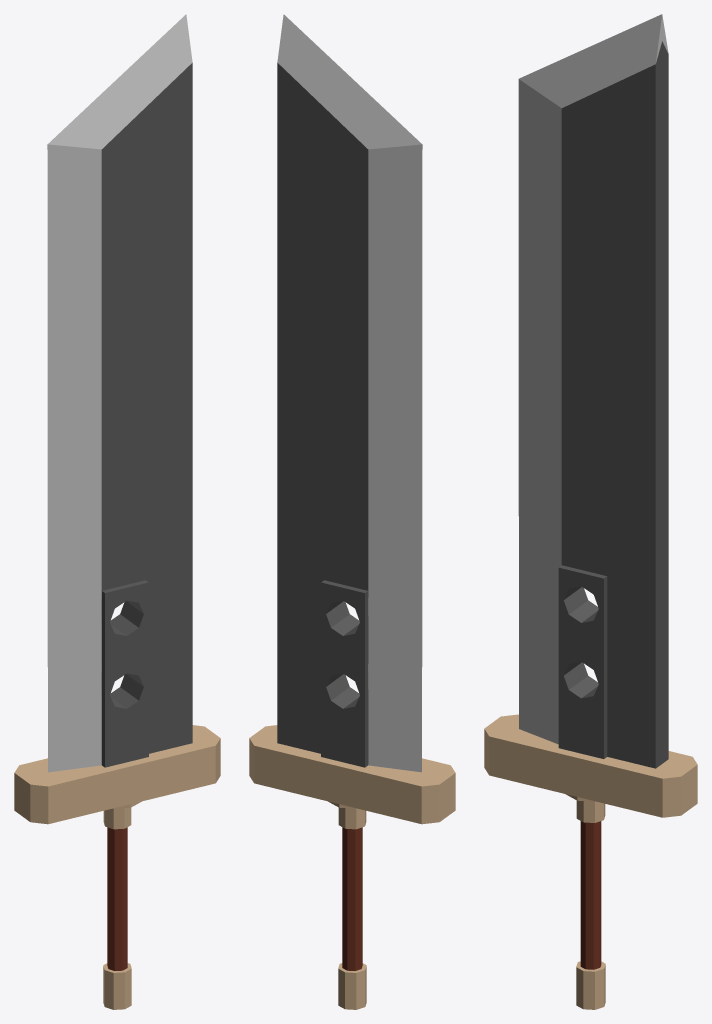
The model's file is BusterSword.fbx.
3 views of the same model, side by side, from view 1: azimuth 30°, elevation 25°; view 2: azimuth 150°, elevation 25°; view 3: azimuth 330°, elevation 25° (orthographic). The views are drawn at different scales.
Visible parts, largest first — view 1: BusterBlade, Guard, Handle; view 2: BusterBlade, Guard, Handle; view 3: BusterBlade, Guard, Handle.
Boxes of the visible parts, x1,y1,x2,y2 form: BusterBlade: (47,14,192,772); Guard: (14,580,220,824); Handle: (103,801,141,1009); BusterBlade: (277,14,422,772); Guard: (249,580,455,824); Handle: (328,801,366,1009); BusterBlade: (518,14,668,768); Guard: (484,565,697,817); Handle: (566,794,605,1009).
Size of the model in its own units: 168 by 821 by 44.4.
